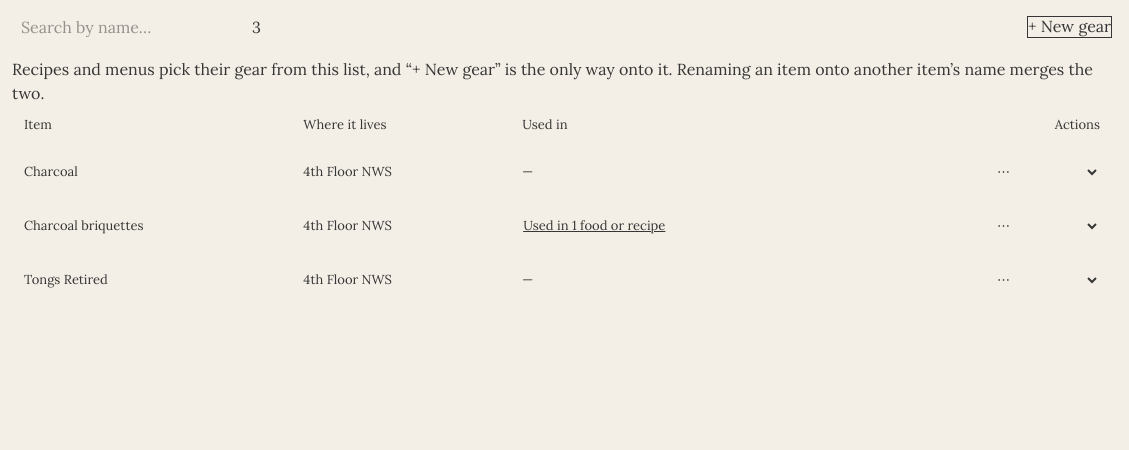
Scenario: GearAdmin — merge › Merge_SendsTheTwoIds_AndShowsTheNote
Step 1. Select "Merge into…" in the dropdown named "More for Charcoal briquettes" → (1042, 226), box [983,208,1100,242]
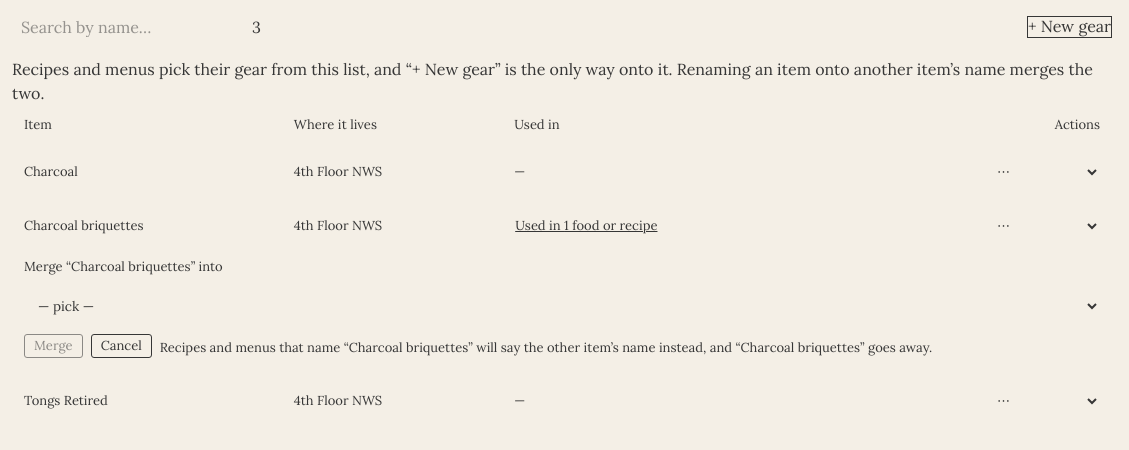
Step 2. Select "Charcoal" in the dropdown labelled "Merge “Charcoal briquettes” into" → (562, 306), box [24,288,1100,324]
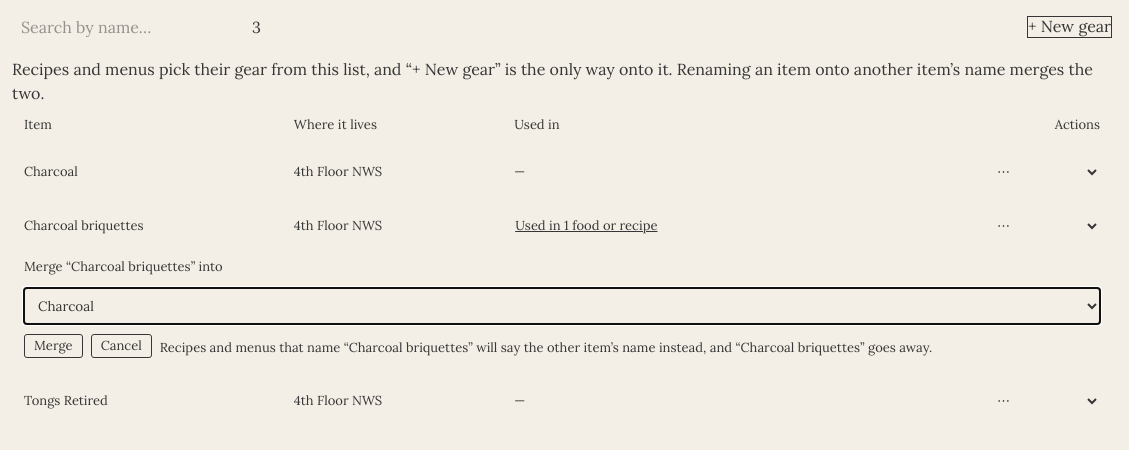
Step 3. Click the button "Merge" → (53, 346), box [24,334,83,358]
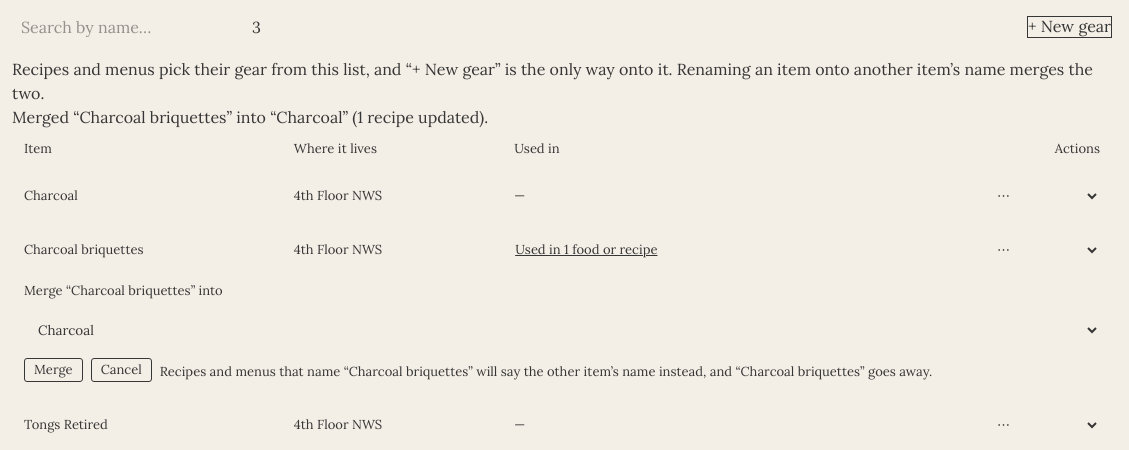
Check: the text "Merged “Charcoal briquettes” into “Charcoal” (1 recipe updated)." is shown, box [12,107,488,127]
